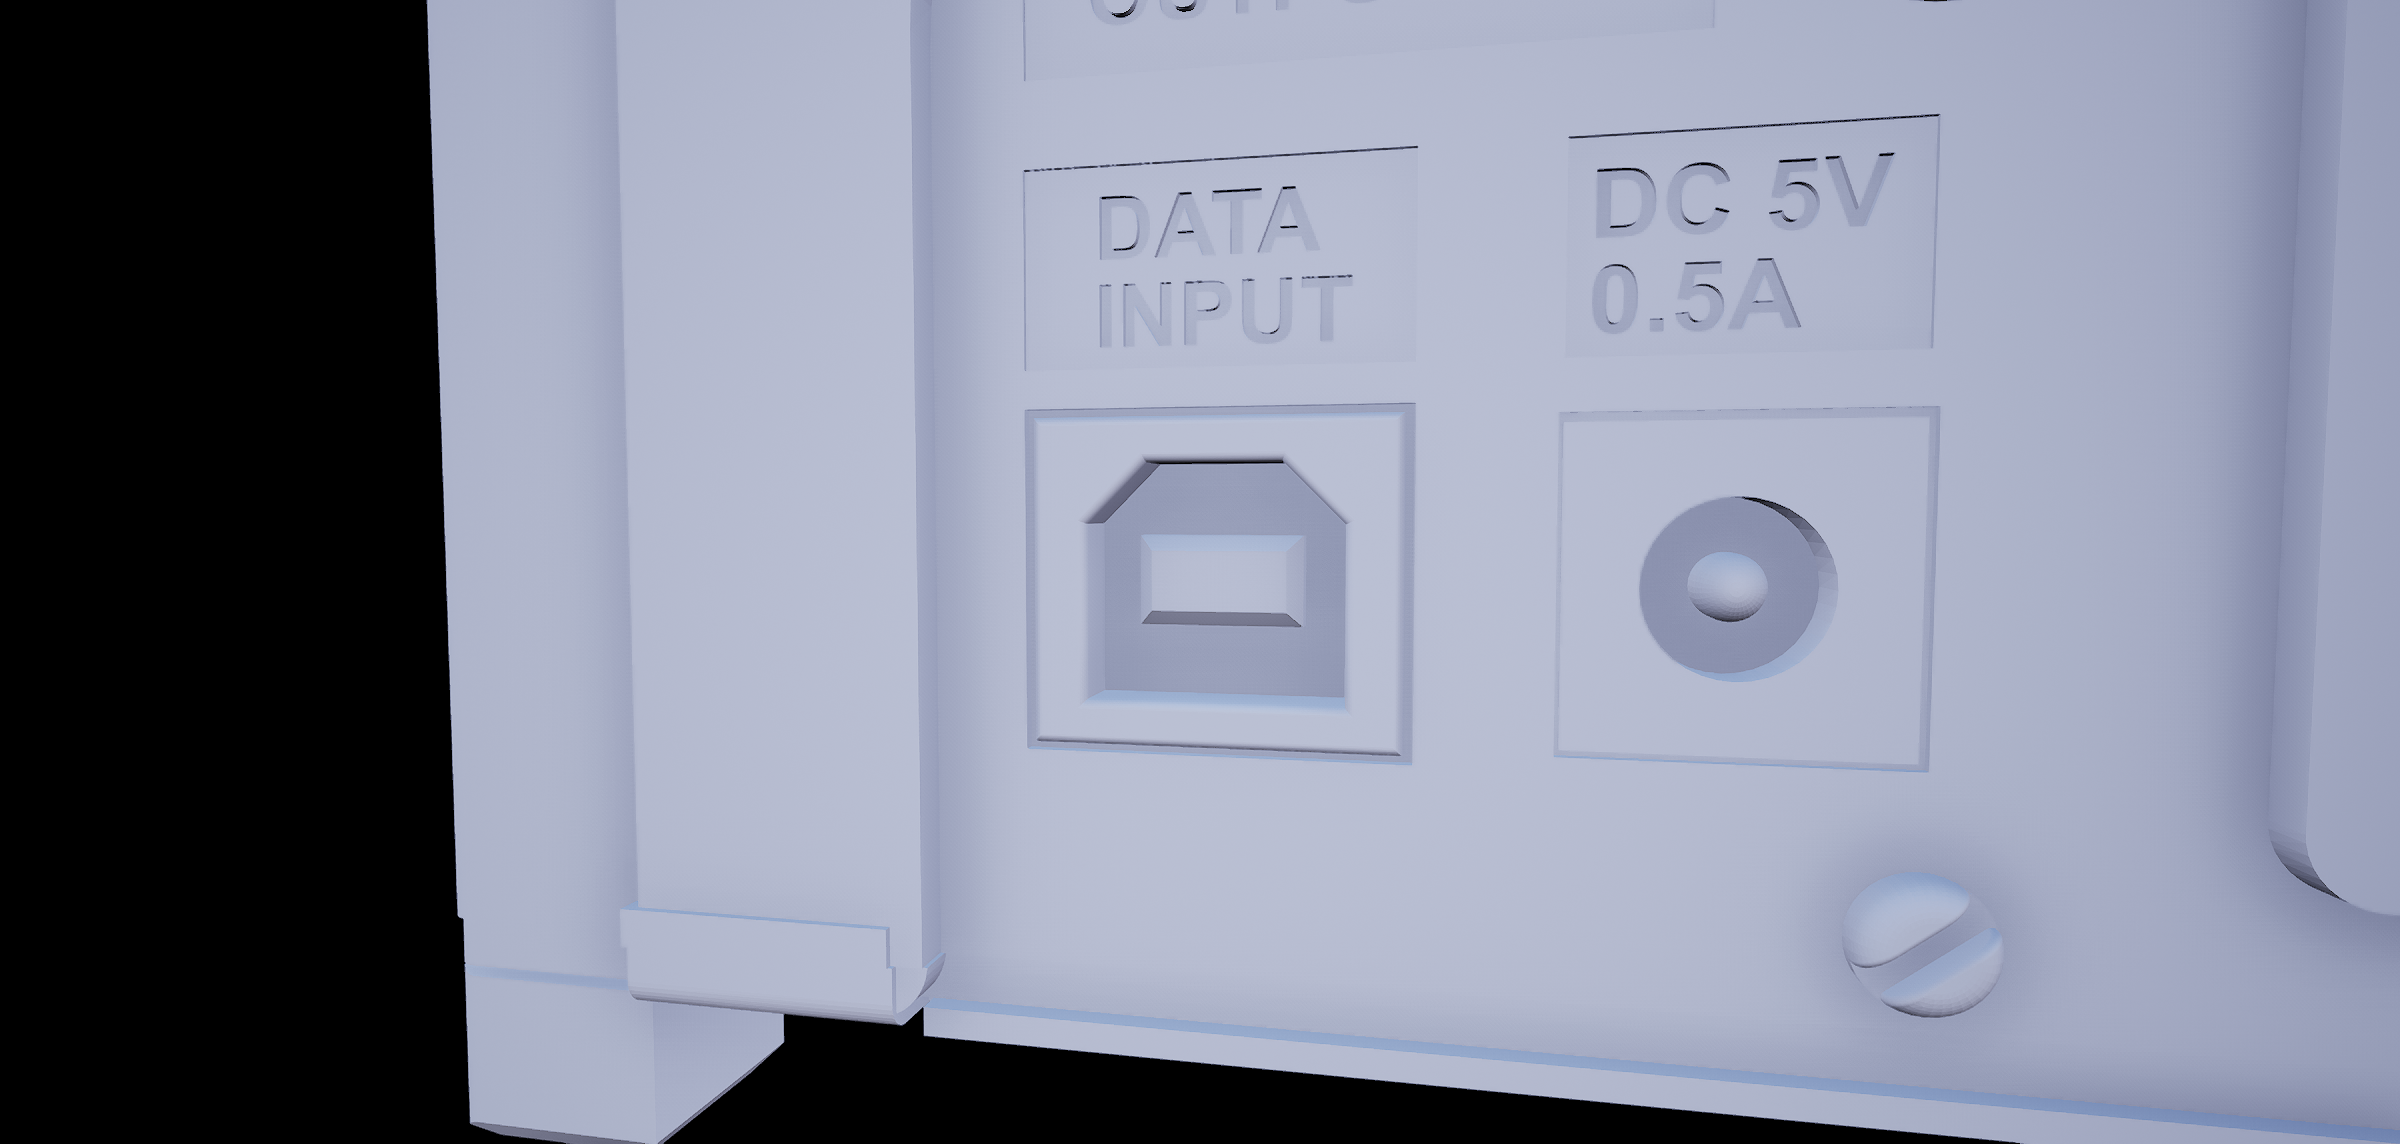aux: (1618, 489, 1851, 691)
usb: (1078, 440, 1362, 738)
